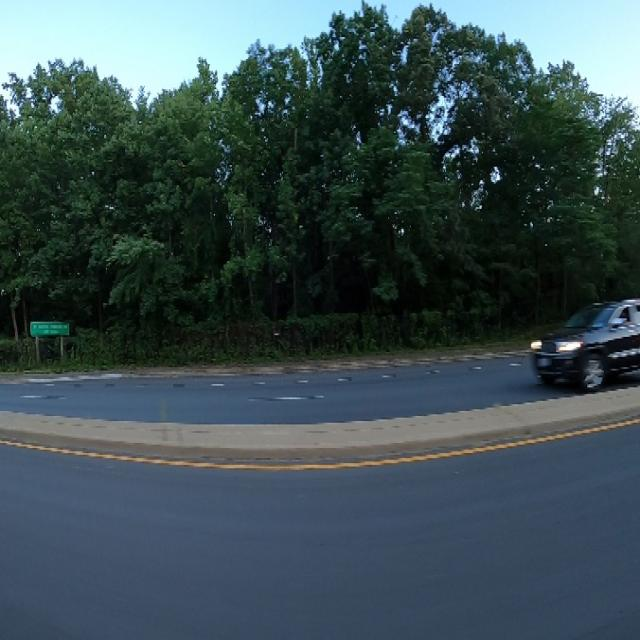car: (520, 282, 640, 404)
